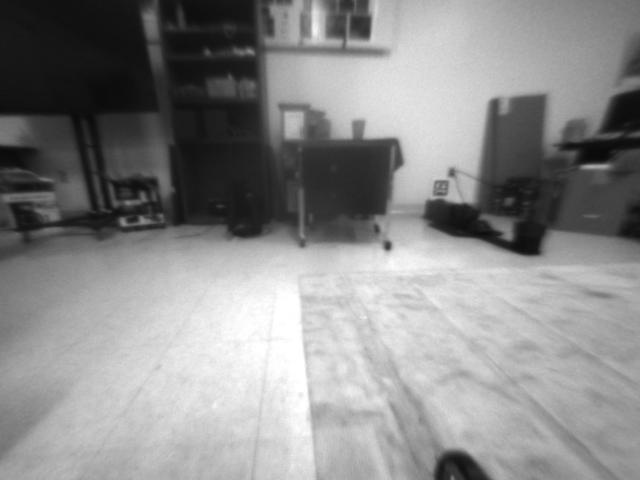coffee_cup: (349, 118, 367, 138)
